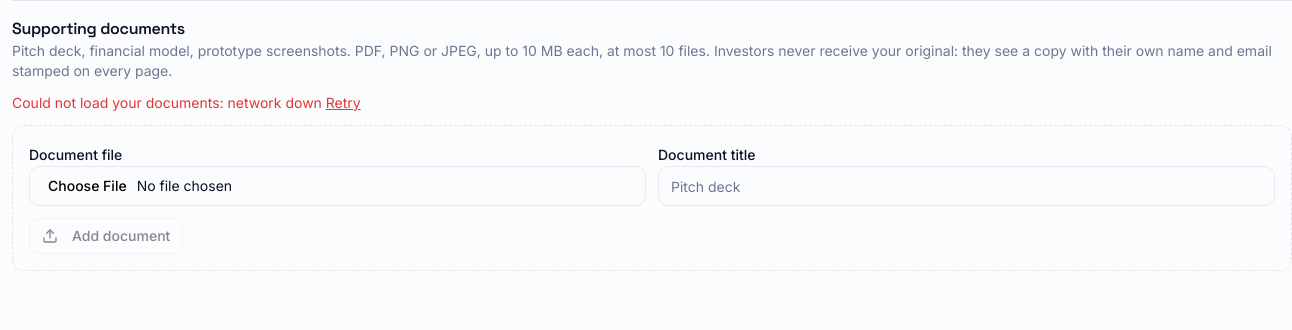
Test: supporting documents editor › offers a retry when the documents cannot be loaded
This screenshot has width=1292, height=330.
Check: the text "Could not load your documents: network down Retry" is shown, box [12,93,361,113]
Step 1. Click the button "Retry" → coordinates (343, 103), box [326,93,361,113]
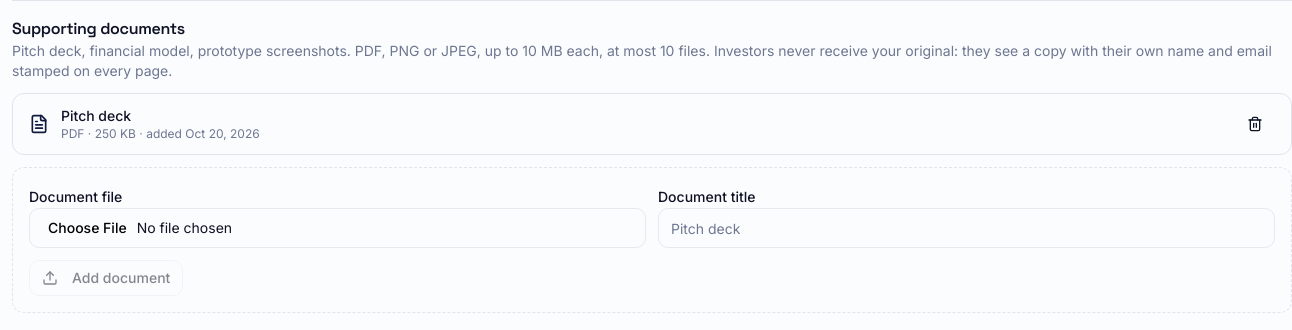
Check: the text "Pitch deck" is shown, box [61,107,131,124]
